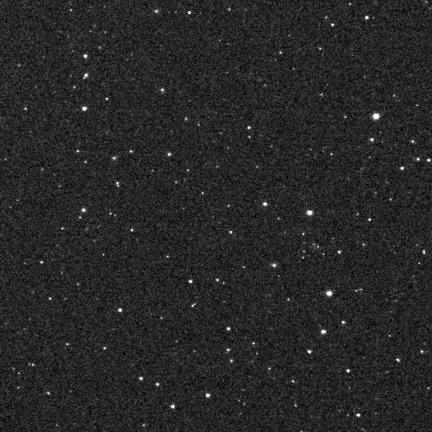blob: (372, 113, 380, 120), (327, 291, 333, 297), (307, 210, 313, 215), (82, 107, 87, 111), (171, 405, 175, 409), (263, 202, 267, 206), (322, 330, 326, 334), (227, 327, 230, 331), (119, 308, 122, 312), (346, 369, 350, 372), (206, 394, 210, 397), (308, 350, 311, 353)
